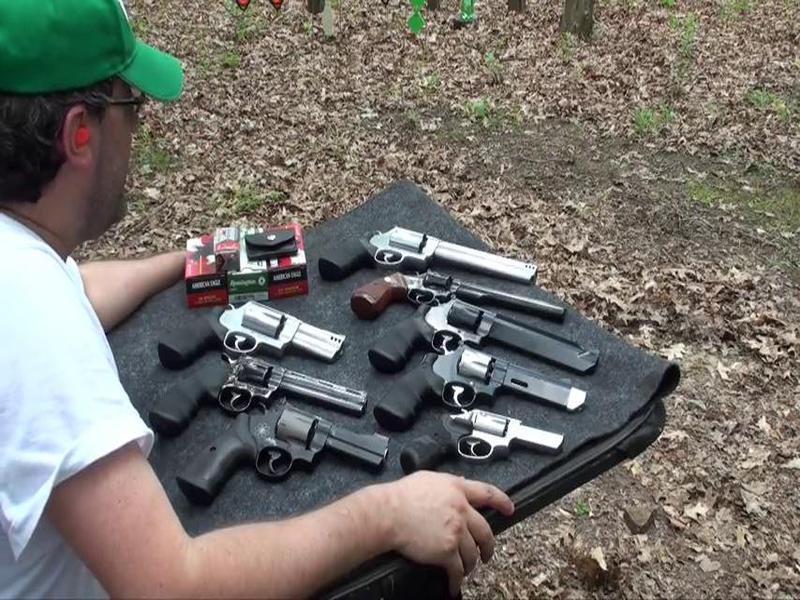Revolver: (326, 194, 549, 302)
